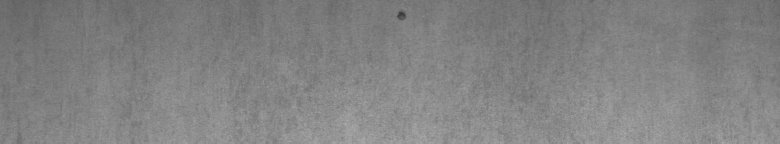fi: (393, 4, 411, 24)
